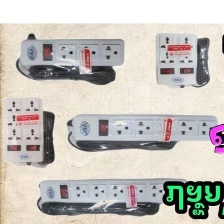three_eye_plug: (34, 175, 191, 210), (65, 112, 220, 146), (15, 34, 127, 72), (0, 93, 45, 165), (150, 30, 201, 90)
